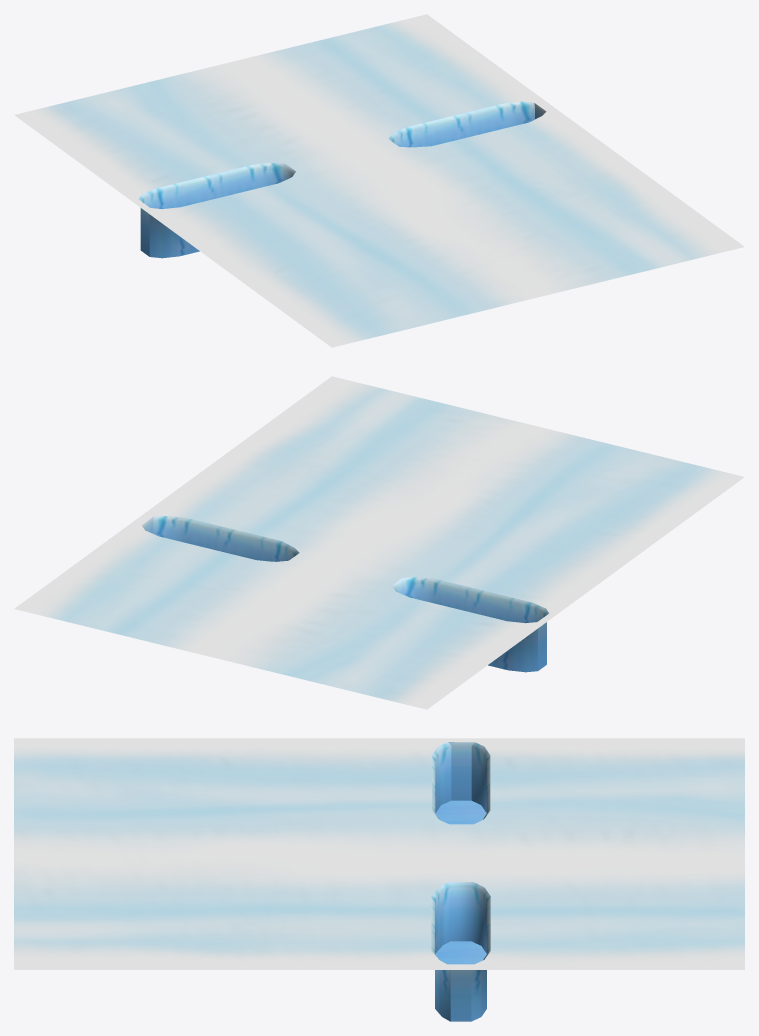
File: Hole_S_02_D.FBX
3 renders of one model, top to bottom at view 1: azimuth 30°, elevation 25°; view 2: azimuth 150°, elevation 25°; view 3: azimuth 270°, elevation 25°, orthographic. The views are drawn at different scales.
Parts seen in each view (by area): view 1: modelRoad082; view 2: modelRoad082; view 3: modelRoad082.
Boxes of the visible parts, x1,y1,x2,y2 form: modelRoad082: (14, 14, 744, 347); modelRoad082: (14, 376, 744, 709); modelRoad082: (14, 738, 744, 1021).
Size of the model in its own units: 600 by 70 by 800.
